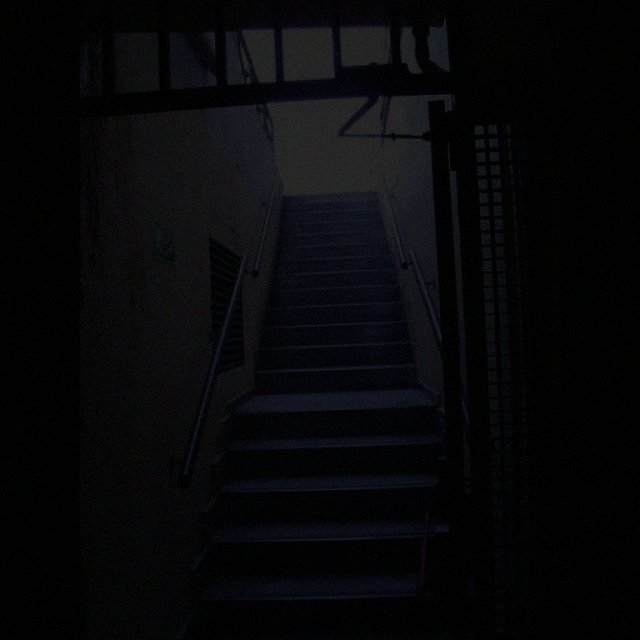stair: (200, 193, 449, 639)
